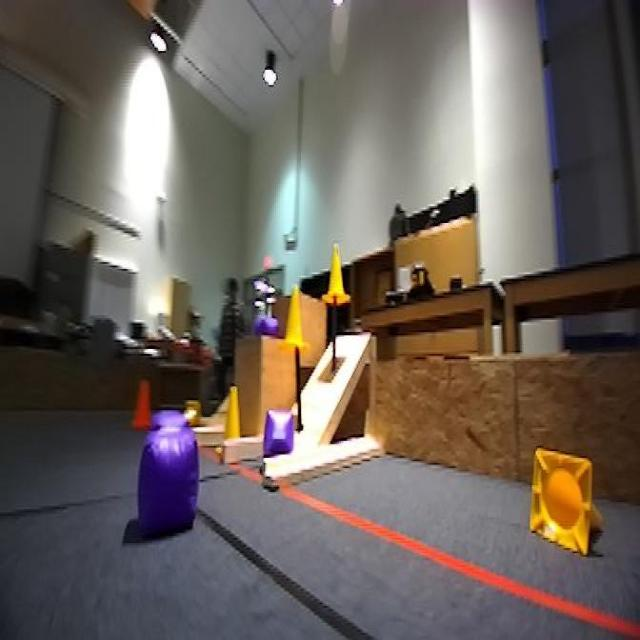frc_cone: (523, 437, 608, 567), (322, 237, 353, 304), (286, 294, 311, 350), (223, 381, 242, 436), (173, 404, 210, 431)
frc_cube: (142, 427, 208, 533), (264, 408, 301, 454), (246, 311, 288, 344)
